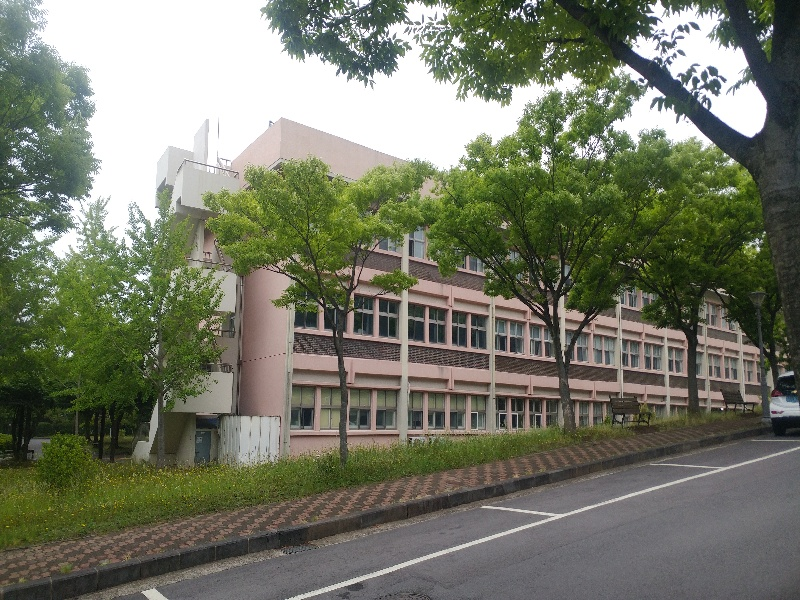College Of Education: (147, 119, 605, 433), (142, 280, 759, 413), (147, 122, 383, 465)
